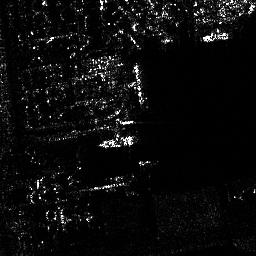ship: (98, 133, 138, 149), (201, 30, 229, 43)
